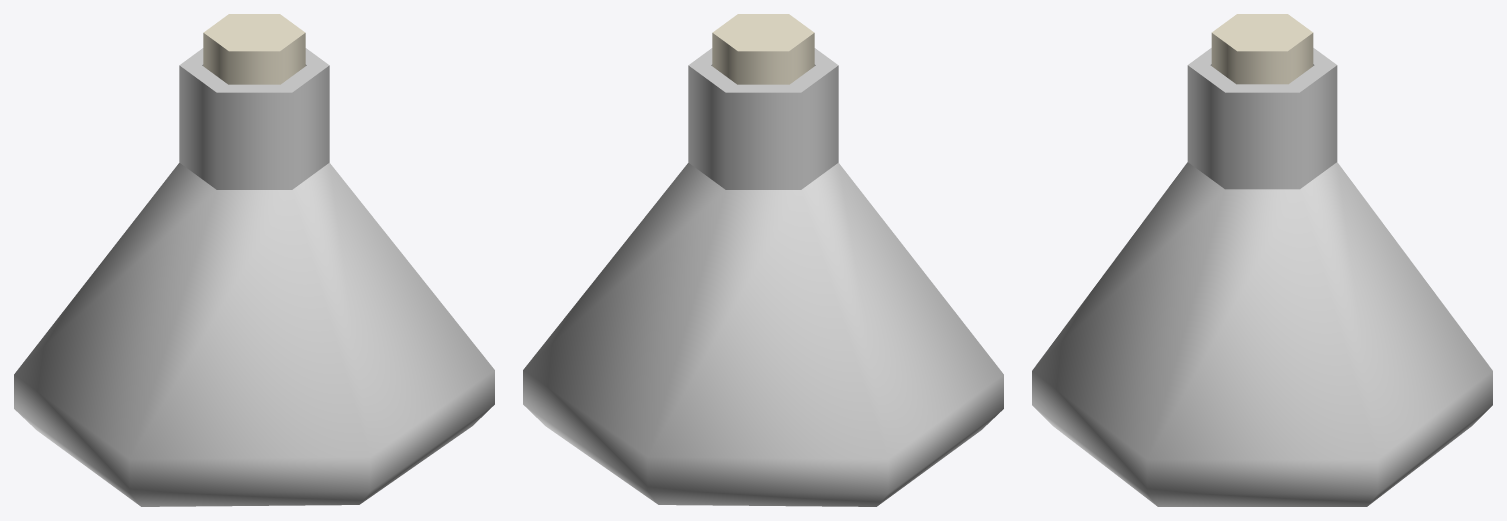
File: SM_Potion_3.fbx
3 renders of one model, left to right at view 1: azimuth 30°, elevation 25°; view 2: azimuth 150°, elevation 25°; view 3: azimuth 270°, elevation 25°, orthographic.
Parts seen in each view (by area): view 1: HealthFlask; view 2: HealthFlask; view 3: HealthFlask.
Part boxes in pixels (left/top/right/bottom): HealthFlask: left=14, top=14, right=494, bottom=506; HealthFlask: left=523, top=14, right=1003, bottom=506; HealthFlask: left=1032, top=14, right=1492, bottom=506.
Size of the model in its own units: 12.73 by 13.17 by 13.97.
